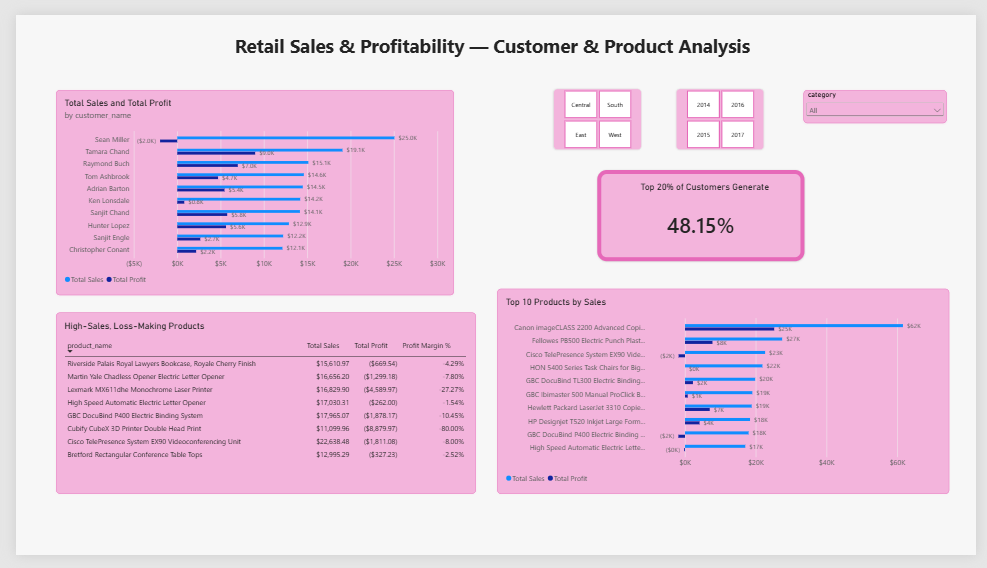

What the dashboard file says about the page in this screenshot:
{"tool":"powerbi","page":{"name":"Customer & Product Analysis","canvas":[1920,1080],"ordinal":2},"visuals":[{"type":"textbox","box":[437.5,35,1047.5,60],"z":0},{"type":"slicer","fields":{"Values":["retail_analytics superstore.region"]},"box":[1075,147.5,176,122],"z":1000},{"type":"slicer","fields":{"Values":["DateTable.Year"]},"box":[1320,147.5,176.2,122.5],"z":2000},{"type":"slicer","fields":{"Values":["retail_analytics superstore.category"]},"box":[1576,150,286.2,66.2],"z":3000},{"type":"clusteredBarChart","fields":{"Category":["retail_analytics superstore.customer_name"],"Y":["retail_analytics superstore.Total Sales","retail_analytics superstore.Total Profit"]},"box":[80,150,796,410],"z":4000},{"type":"clusteredBarChart","title":"Top 10 Products by Sales","fields":{"Category":["retail_analytics superstore.Product Short Name"],"Y":["retail_analytics superstore.Total Sales","retail_analytics superstore.Total Profit"]},"box":[962,548,904,410],"z":5000},{"type":"tableEx","title":"High-Sales, Loss-Making Products","fields":{"Values":["retail_analytics superstore.product_name","retail_analytics superstore.Total Sales","retail_analytics superstore.Total Profit","retail_analytics superstore.Profit Margin %"]},"box":[80,595,840,362.5],"z":6000},{"type":"card","title":"Top 20% of Customers Generate","fields":{"Values":["retail_analytics superstore.Top 20% Sales Contribution %"]},"box":[1162.5,310,414,182],"z":7000}]}

Visuals, with their boxes in screenshot pixels (x1, y1, x2, y2), scaled from the page's 1920x1080 canvas onto the 987x568 screenshot:
textbox: <region>225, 18, 763, 50</region>
slicer - retail_analytics superstore.region: <region>553, 78, 643, 142</region>
slicer - DateTable.Year: <region>679, 78, 769, 142</region>
slicer - retail_analytics superstore.category: <region>810, 79, 957, 114</region>
clusteredBarChart - retail_analytics superstore.customer_name x retail_analytics superstore.Total Sales: <region>41, 79, 450, 295</region>
"Top 10 Products by Sales" clusteredBarChart: <region>495, 288, 959, 504</region>
"High-Sales, Loss-Making Products" tableEx: <region>41, 313, 473, 504</region>
"Top 20% of Customers Generate" card: <region>598, 163, 810, 259</region>
